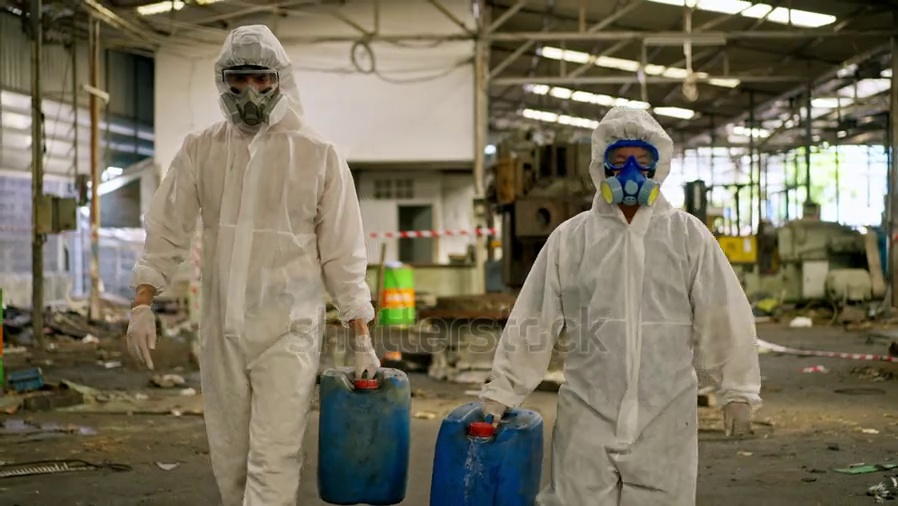mask: (596, 169, 660, 208), (222, 85, 284, 125)
person: (125, 26, 380, 506), (477, 101, 764, 506)
